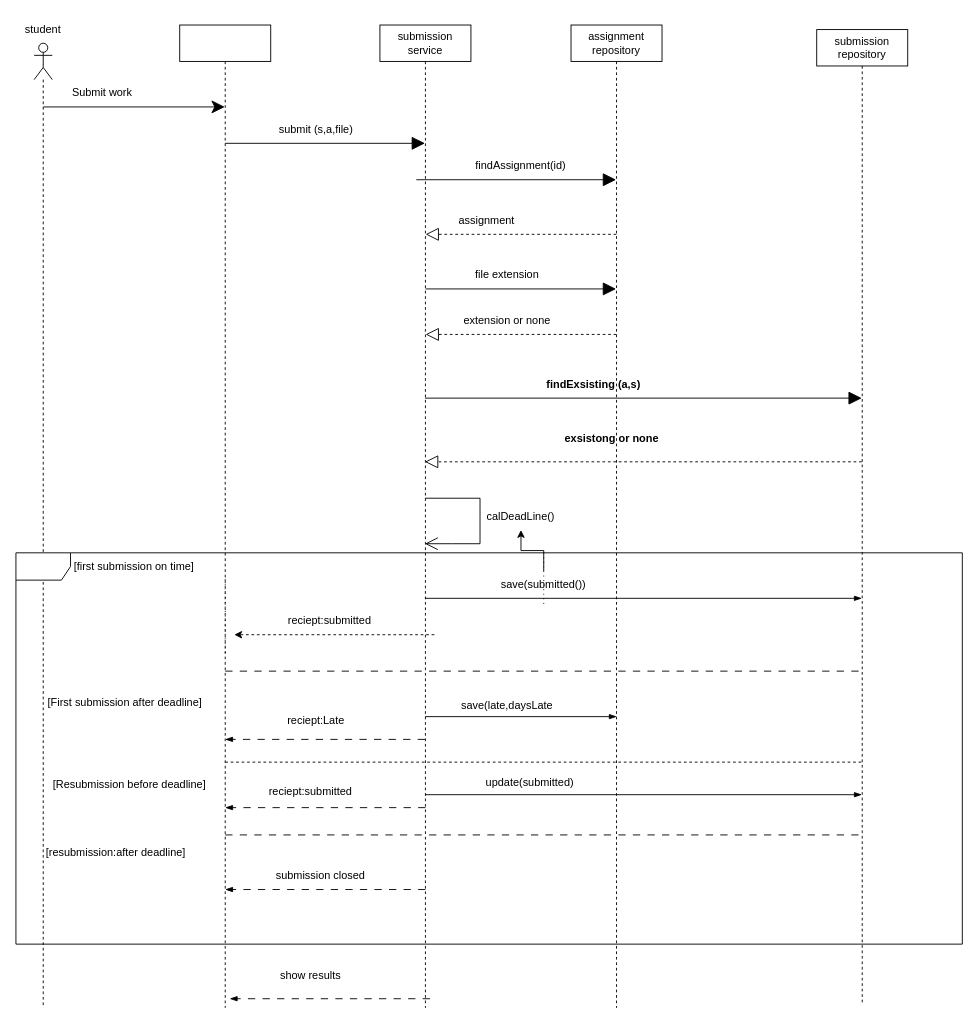
This 978x1024 diagram has some shape labels left out. Each missing label, with the box of its shape:
alt: (15, 552, 962, 944)
console UI: (179, 24, 271, 1008)
